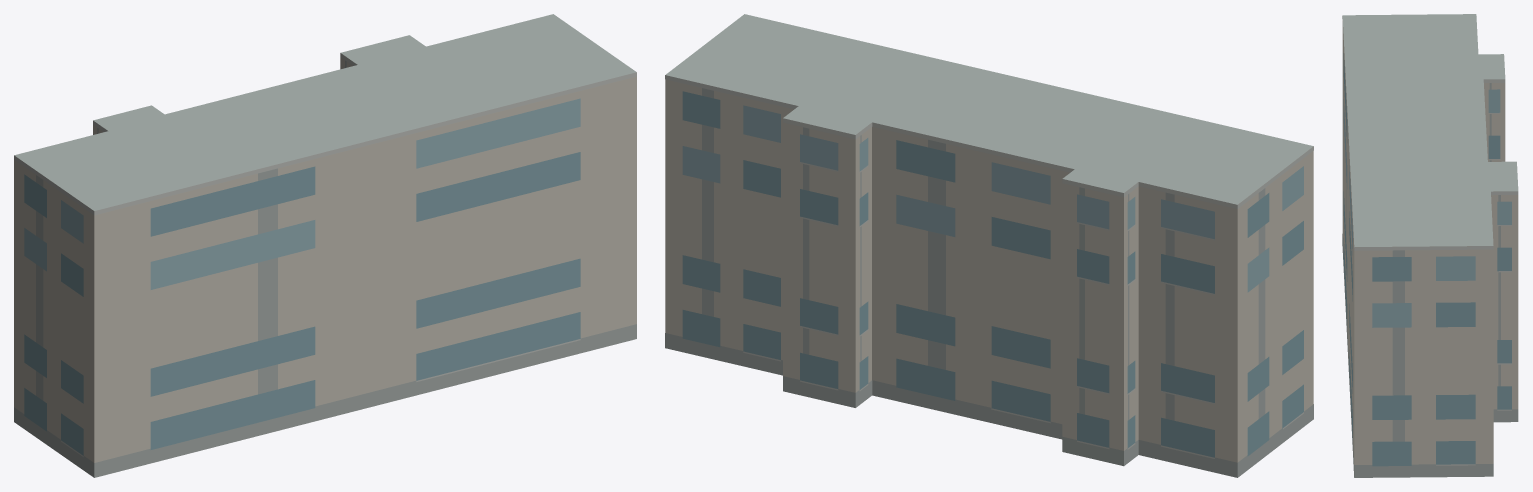
The model's file is residential-4dfaa8fd-c657-4790-98a4-0e89615b9a06.glb.
3 renders of one model, left to right at view 1: azimuth 30°, elevation 25°; view 2: azimuth 150°, elevation 25°; view 3: azimuth 270°, elevation 25°, orthographic. The views are drawn at different scales.
Visible parts, largest first — view 1: residential-4dfaa8fd-c657-4790-98a4-0e89615b9a06.tmp; view 2: residential-4dfaa8fd-c657-4790-98a4-0e89615b9a06.tmp; view 3: residential-4dfaa8fd-c657-4790-98a4-0e89615b9a06.tmp.
Part boxes in pixels (<box>): residential-4dfaa8fd-c657-4790-98a4-0e89615b9a06.tmp: <box>14,14,636,477</box>; residential-4dfaa8fd-c657-4790-98a4-0e89615b9a06.tmp: <box>665,14,1313,477</box>; residential-4dfaa8fd-c657-4790-98a4-0e89615b9a06.tmp: <box>1342,14,1518,477</box>.
Bounding box in the file's own units: 33.05 × 15.25 × 10.54.
